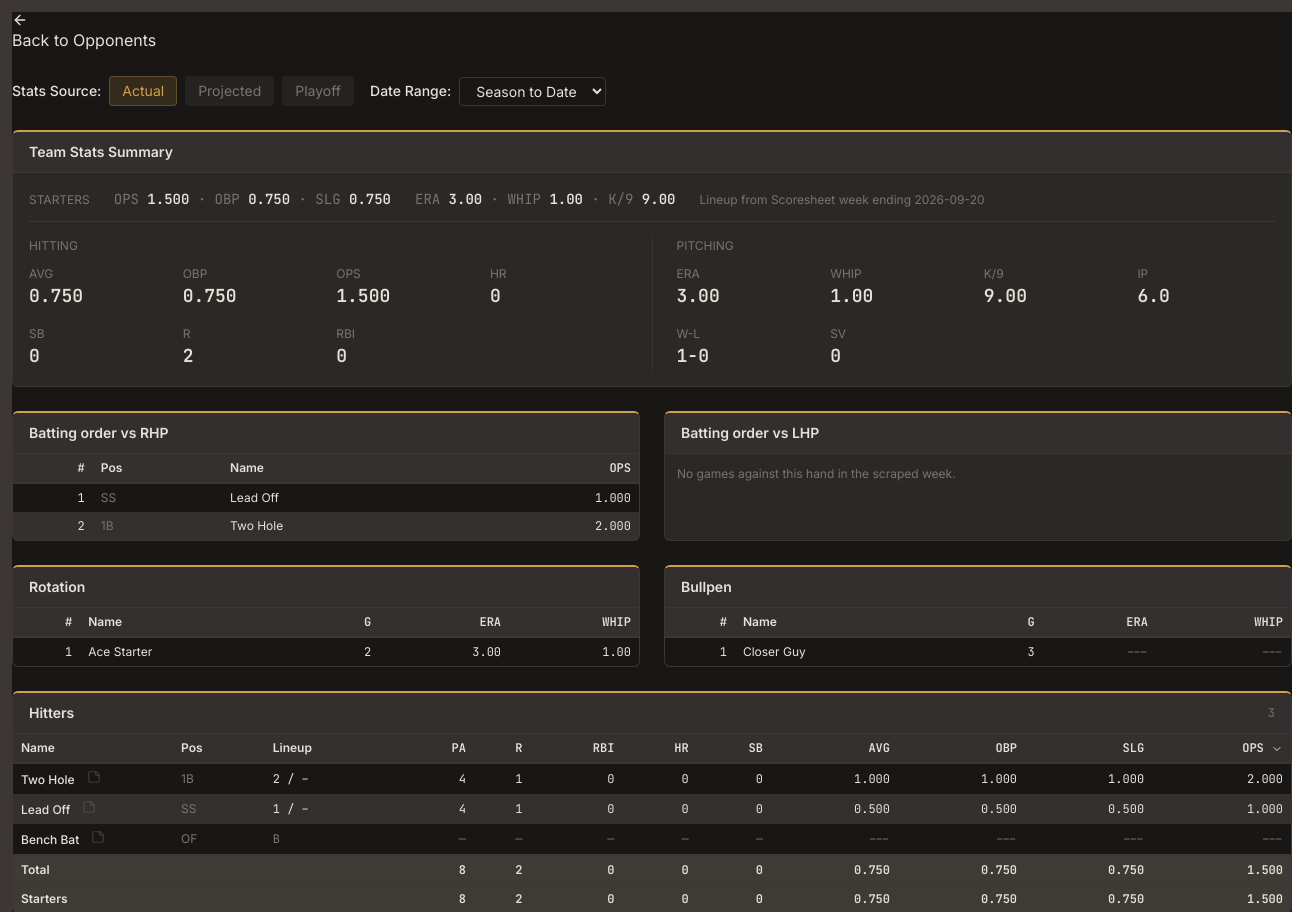
TeamDetail › playoff mode adds series caps to the panels and swaps table columns
Click the button "Playoff".
click(318, 91)  # box [282,76,354,106]
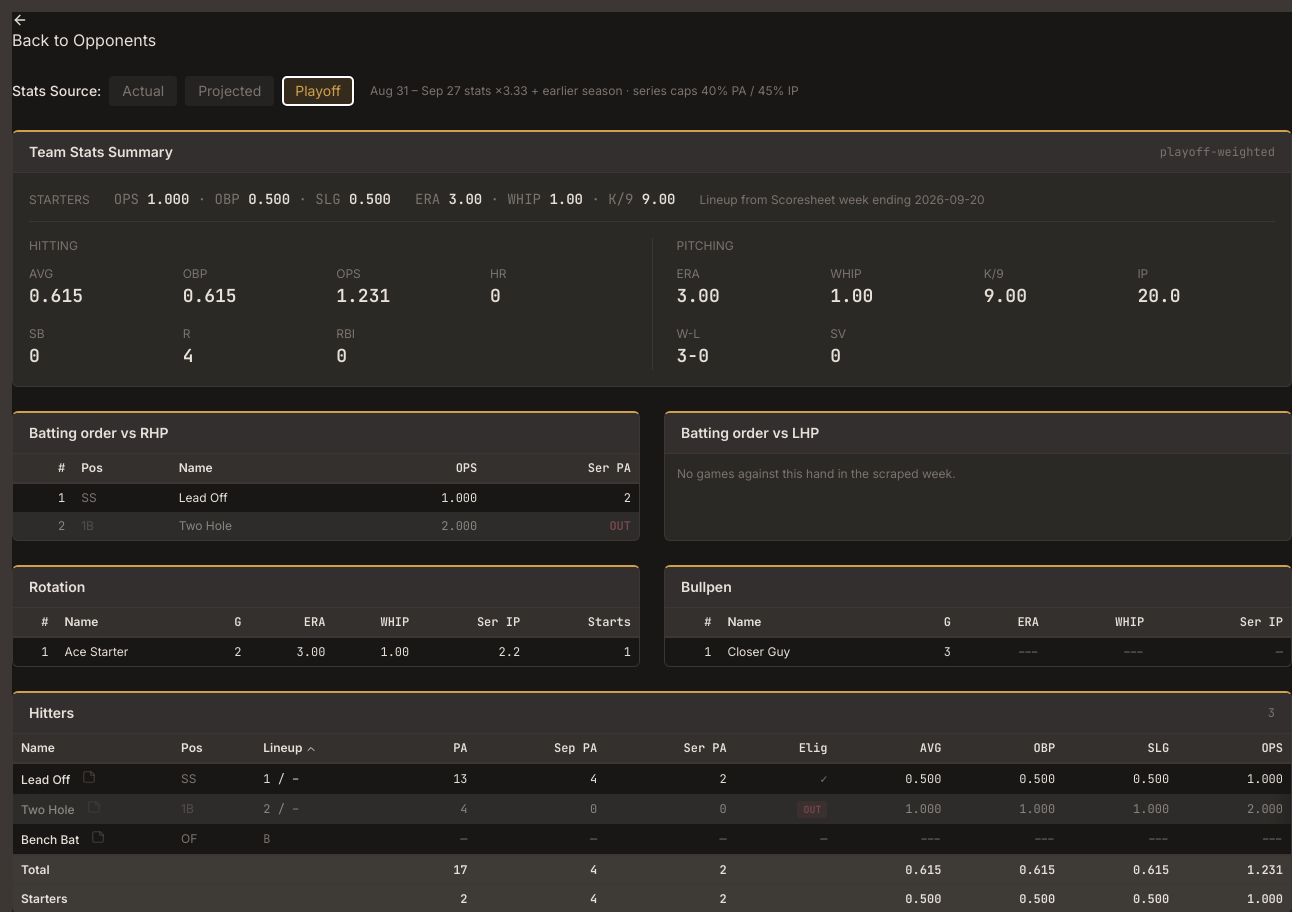
Now the text with test id "playoff-mode-note" is shown, box [370,83,798,99]
Now the column heading "Ser PA" below "Batting order vs LHP" is shown, box [588,460,631,476]
Now the text "OUT" below "Batting order vs LHP" is shown, box [609,518,631,534]
